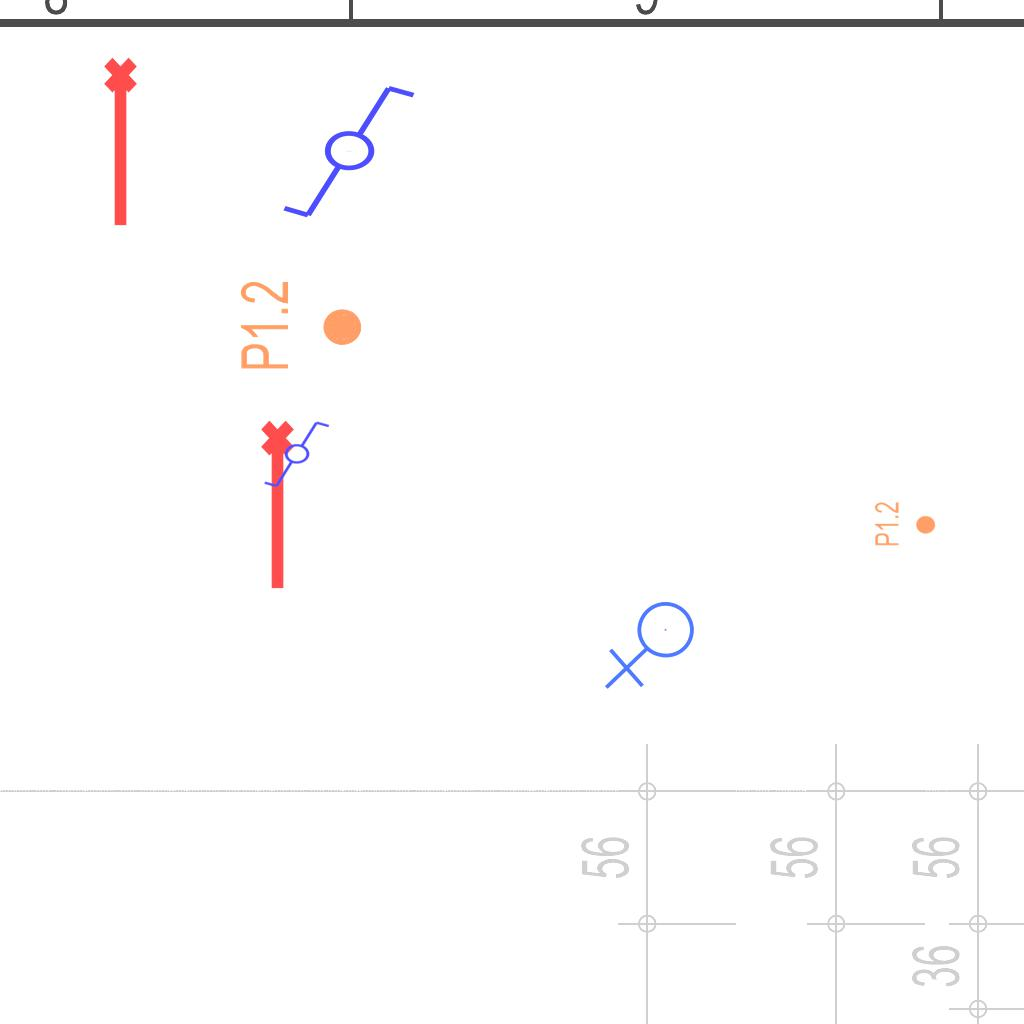ASR_Ansaugoeffnung: (257, 418, 303, 594), (100, 55, 146, 231)
Downlight_LED_Einbauleuchten_Flur: (237, 279, 365, 372), (873, 501, 937, 547)
Elektroanschluss_allgemein_230V_Geraeteanschlussdose_230V: (604, 600, 703, 694)
Wechselschalter: (279, 81, 436, 225), (262, 419, 340, 491)
